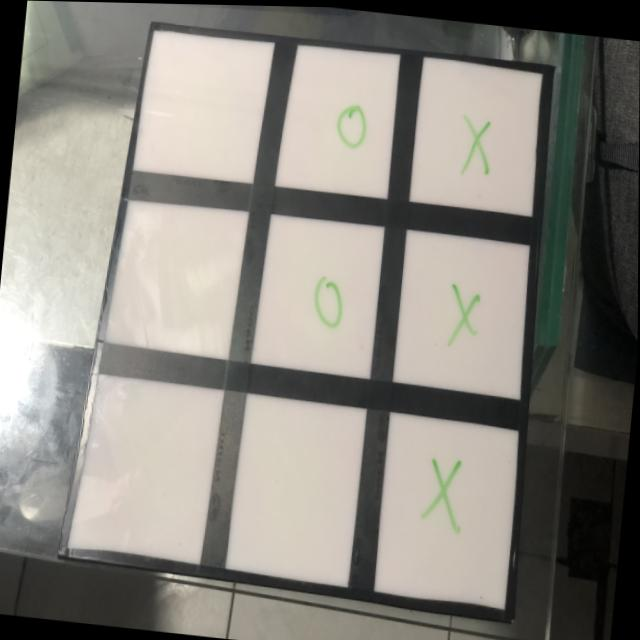null: (68, 372, 222, 564), (223, 389, 368, 582), (130, 23, 275, 192), (103, 195, 247, 362)
o: (330, 96, 374, 156), (306, 272, 348, 332)
table: (57, 18, 573, 616)
x: (417, 450, 465, 536), (455, 106, 500, 180), (443, 276, 482, 345)
